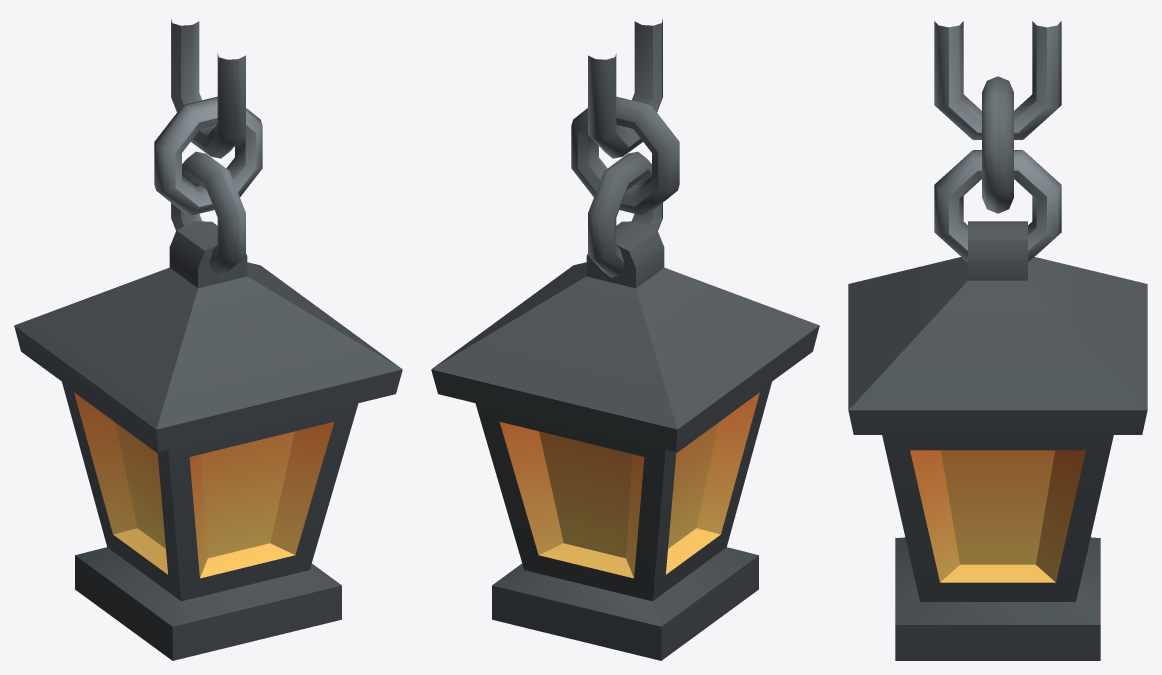
Rendered from Lantern Hanging.glb.
The picture shows the model from 3 angles, left to right: view 1: azimuth 30°, elevation 25°; view 2: azimuth 150°, elevation 25°; view 3: azimuth 270°, elevation 25°; orthographic projection. The views are drawn at different scales.
Parts seen in each view (by area): view 1: lantern_hanging; view 2: lantern_hanging; view 3: lantern_hanging.
Part boxes in pixels (x1,y1,x2,y2): lantern_hanging: [14, 19, 402, 660]; lantern_hanging: [431, 19, 819, 660]; lantern_hanging: [848, 21, 1147, 660].
Size of the model in its own units: 0.64 by 1.41 by 0.64.
1 material, 1 textured.
